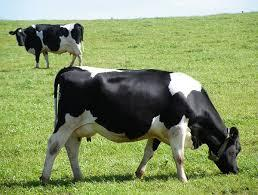cow: (40, 66, 242, 185), (9, 22, 85, 70)
